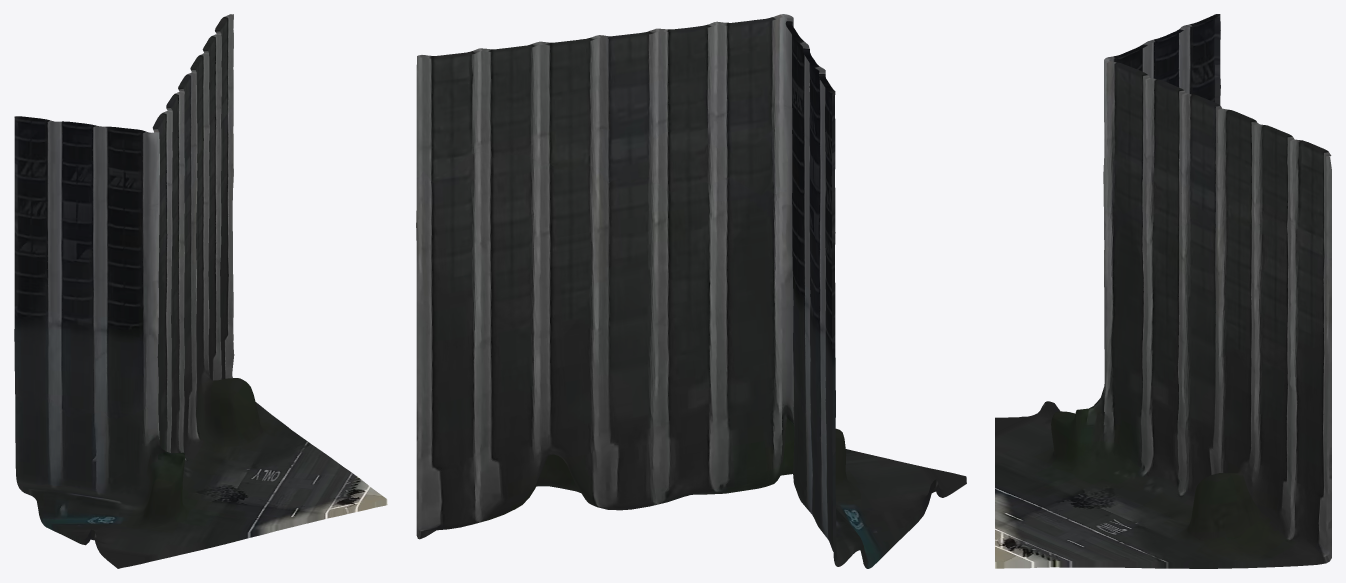
File: z20-167780-405233-h0-yup-uvflip-v3-world.glb
3 renders of one model, left to right at view 1: azimuth 30°, elevation 25°; view 2: azimuth 150°, elevation 25°; view 3: azimuth 270°, elevation 25°, orthographic. The views are drawn at different scales.
Size of the model in its own units: 30.24 by 41.56 by 30.08.
Materials: 1 (1 with a texture image).
